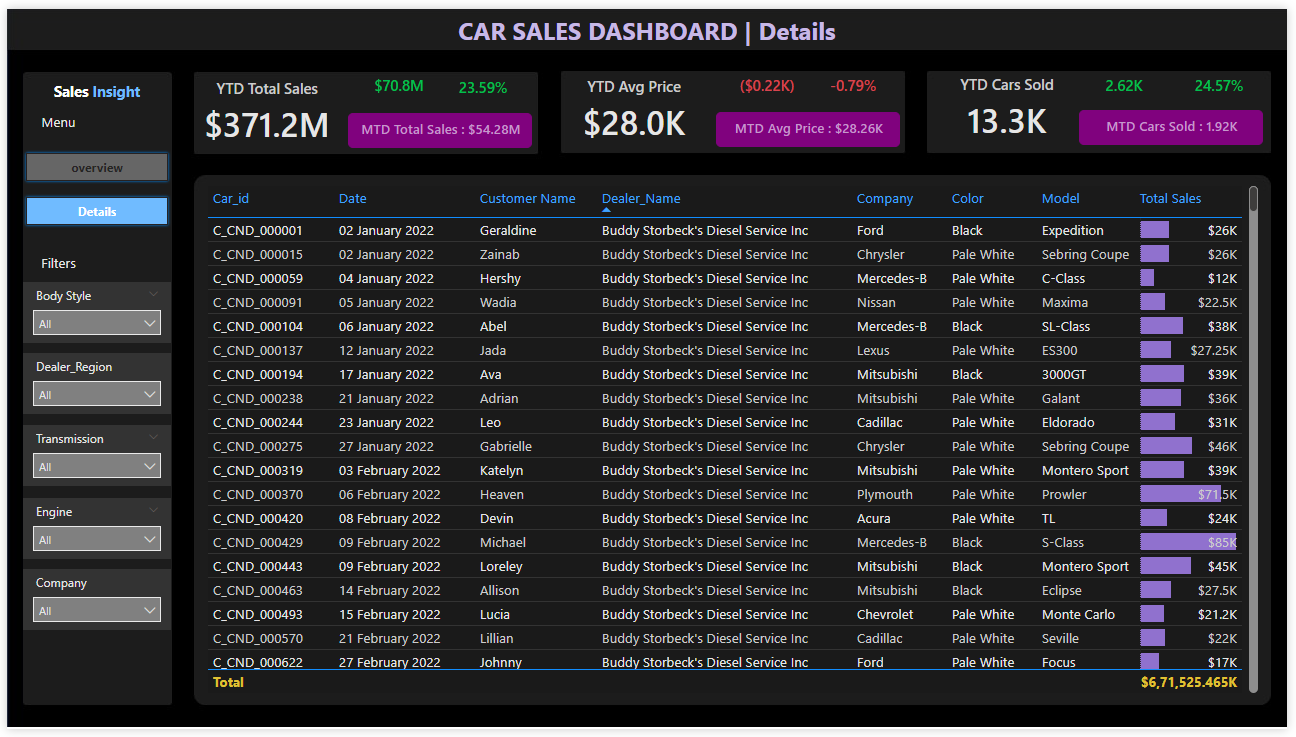

The page's visual inventory and layout, read from the dashboard file:
{"tool":"powerbi","page":{"name":"Details","canvas":[1280,720],"ordinal":1},"visuals":[{"type":"card","title":"YTD Total Sales","fields":{"Values":["car_data.YTD Total Sales"]},"box":[188,69,144,72],"z":0},{"type":"card","fields":{"Values":["car_data.Sales Difference"]},"box":[359,65,66,27],"z":1000},{"type":"card","fields":{"Values":["car_data.YoY Sales Growth"]},"box":[443,67,66,26],"z":2000},{"type":"card","fields":{"Values":["car_data.MTD KPI"]},"box":[341,104,184,35],"z":3000},{"type":"card","title":"YTD Avg Price","fields":{"Values":["car_data.YTD Avg Price"]},"box":[555,67,144,72],"z":4000},{"type":"card","fields":{"Values":["car_data.Avg Price Diff"]},"box":[727,65,66,27],"z":5000},{"type":"card","fields":{"Values":["car_data.YoY Avg Price Growth"]},"box":[813,65,66,27],"z":6000},{"type":"card","fields":{"Values":["car_data.MTD Avg Price KPI"]},"box":[709,103,184,35],"z":7000},{"type":"card","title":"YTD Cars Sold","fields":{"Values":["car_data.YTD Cars Sold"]},"box":[928,65,144,72],"z":8000},{"type":"card","fields":{"Values":["car_data.Cars Sold Diff"]},"box":[1084,65,66,27],"z":9000},{"type":"card","fields":{"Values":["car_data.YoY Cars Sold Growth"]},"box":[1179,65,66,27],"z":10000},{"type":"card","fields":{"Values":["car_data.MTD Cars Sold KPI"]},"box":[1072,101,184,35],"z":11000},{"type":"textbox","box":[412,0,456,45],"z":12000},{"type":"slicer","fields":{"Values":["car_data.Body Style"]},"box":[16,273,148,61],"z":13000},{"type":"slicer","fields":{"Values":["car_data.Dealer_Region"]},"box":[16,344,148,61],"z":14000},{"type":"slicer","fields":{"Values":["car_data.Transmission"]},"box":[16,416,148,61],"z":15000},{"type":"slicer","fields":{"Values":["car_data.Engine"]},"box":[16,489,148,61],"z":16000},{"type":"textbox","box":[16,240,71,33],"z":17000},{"type":"tableEx","fields":{"Values":["car_data.Car_id","car_data.Date","car_data.Customer Name","car_data.Dealer_Name","car_data.Company","car_data.Color","car_data.Model","car_data.Price ($)"]},"box":[195,172,1061,517],"z":18000},{"type":"textbox","box":[16,67,148,32],"z":19000},{"type":"textbox","box":[16,99,71,37],"z":20000},{"type":"pageNavigator","box":[16,141,148,79],"z":21000},{"type":"slicer","fields":{"Values":["car_data.Company"]},"box":[16,560,148,61],"z":21001}]}

Visuals, with their boxes in screenshot pixels (x1, y1, x2, y2), scaled from the page's 1280x720 canvas onto the 1296x737 screenshot:
"YTD Total Sales" card: (x1=190, y1=71, x2=336, y2=144)
card - car_data.Sales Difference: (x1=363, y1=67, x2=430, y2=94)
card - car_data.YoY Sales Growth: (x1=449, y1=69, x2=515, y2=95)
card - car_data.MTD KPI: (x1=345, y1=106, x2=532, y2=142)
"YTD Avg Price" card: (x1=562, y1=69, x2=708, y2=142)
card - car_data.Avg Price Diff: (x1=736, y1=67, x2=803, y2=94)
card - car_data.YoY Avg Price Growth: (x1=823, y1=67, x2=890, y2=94)
card - car_data.MTD Avg Price KPI: (x1=718, y1=105, x2=904, y2=141)
"YTD Cars Sold" card: (x1=940, y1=67, x2=1085, y2=140)
card - car_data.Cars Sold Diff: (x1=1098, y1=67, x2=1164, y2=94)
card - car_data.YoY Cars Sold Growth: (x1=1194, y1=67, x2=1261, y2=94)
card - car_data.MTD Cars Sold KPI: (x1=1085, y1=103, x2=1272, y2=139)
textbox: (x1=417, y1=0, x2=879, y2=46)
slicer - car_data.Body Style: (x1=16, y1=279, x2=166, y2=342)
slicer - car_data.Dealer_Region: (x1=16, y1=352, x2=166, y2=415)
slicer - car_data.Transmission: (x1=16, y1=426, x2=166, y2=488)
slicer - car_data.Engine: (x1=16, y1=501, x2=166, y2=563)
textbox: (x1=16, y1=246, x2=88, y2=279)
tableEx - car_data.Car_id x car_data.Date: (x1=197, y1=176, x2=1272, y2=705)
textbox: (x1=16, y1=69, x2=166, y2=101)
textbox: (x1=16, y1=101, x2=88, y2=139)
pageNavigator: (x1=16, y1=144, x2=166, y2=225)
slicer - car_data.Company: (x1=16, y1=573, x2=166, y2=636)
